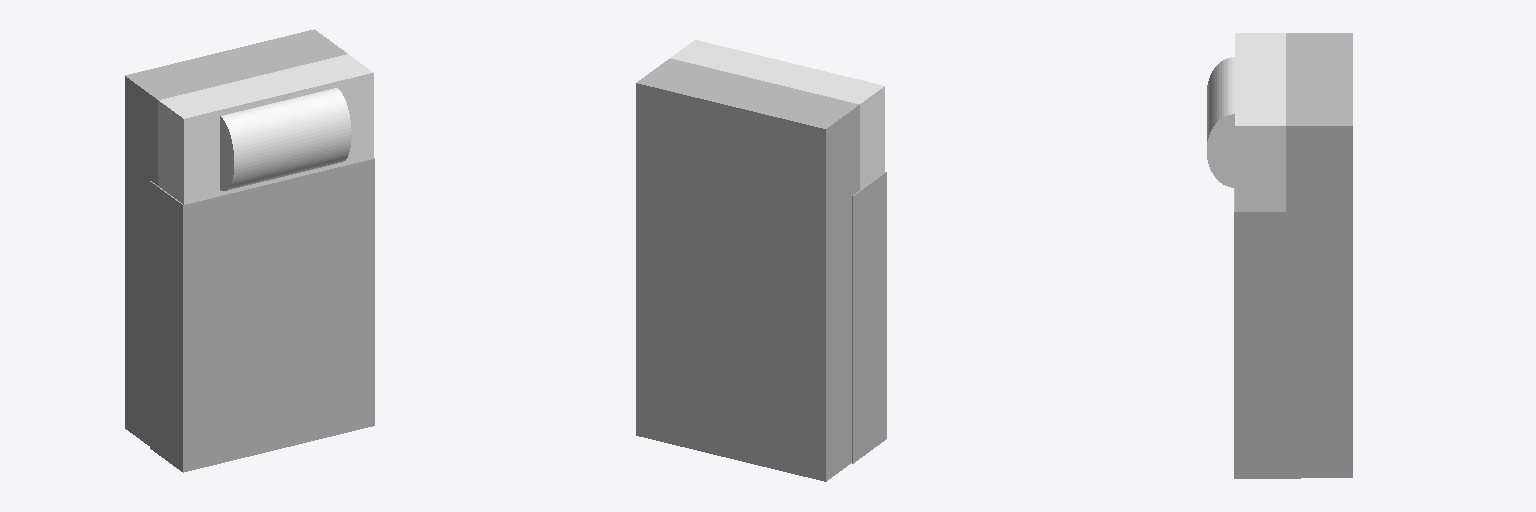
File: tinker.obj
The picture shows the model from 3 angles: view 1: azimuth 30°, elevation 25°; view 2: azimuth 150°, elevation 25°; view 3: azimuth 270°, elevation 25°; orthographic projection.
Visible parts, largest first — view 1: obj_0; view 2: obj_0; view 3: obj_0.
Boxes of the visible parts, x1=… form: obj_0: x1=125, y1=29, x2=374, y2=472; obj_0: x1=636, y1=40, x2=886, y2=481; obj_0: x1=1207, y1=33, x2=1352, y2=478.
Bounding box in the file's own units: 32.7 × 57.6 × 21.7.